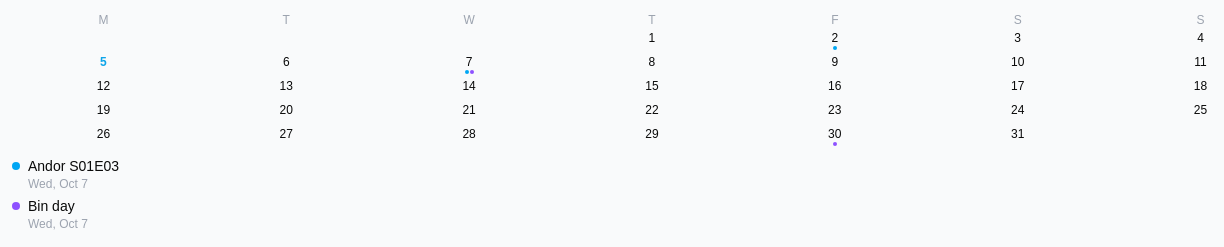
Test: CalendarWidget › shows the month and the coming days, and filters by a clicked day
Expected: the text "Far away" is not shown
Click the button "30" at (835, 136), box [743,124,926,148]
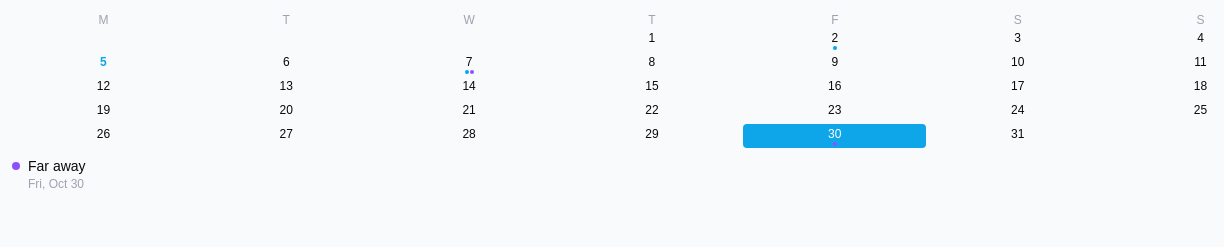
Result: the text "Far away" is shown at [28,158,86,174]
